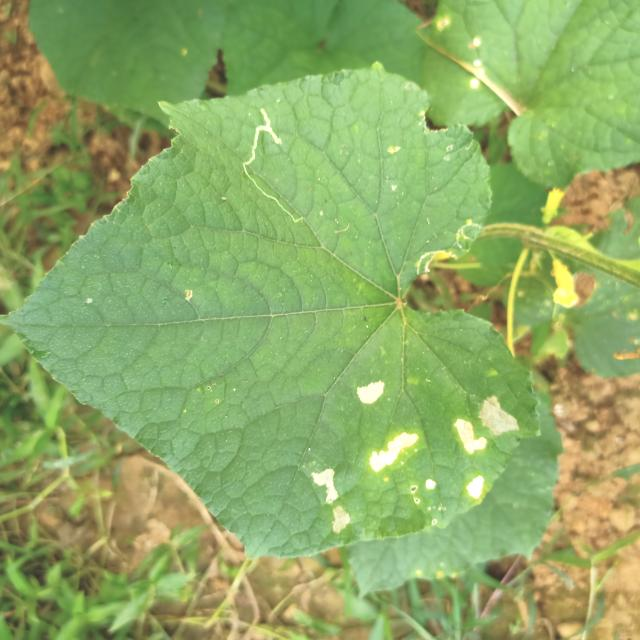disease_cucumber: (451, 391, 524, 507), (366, 427, 440, 512), (308, 463, 352, 536), (357, 379, 387, 408)
